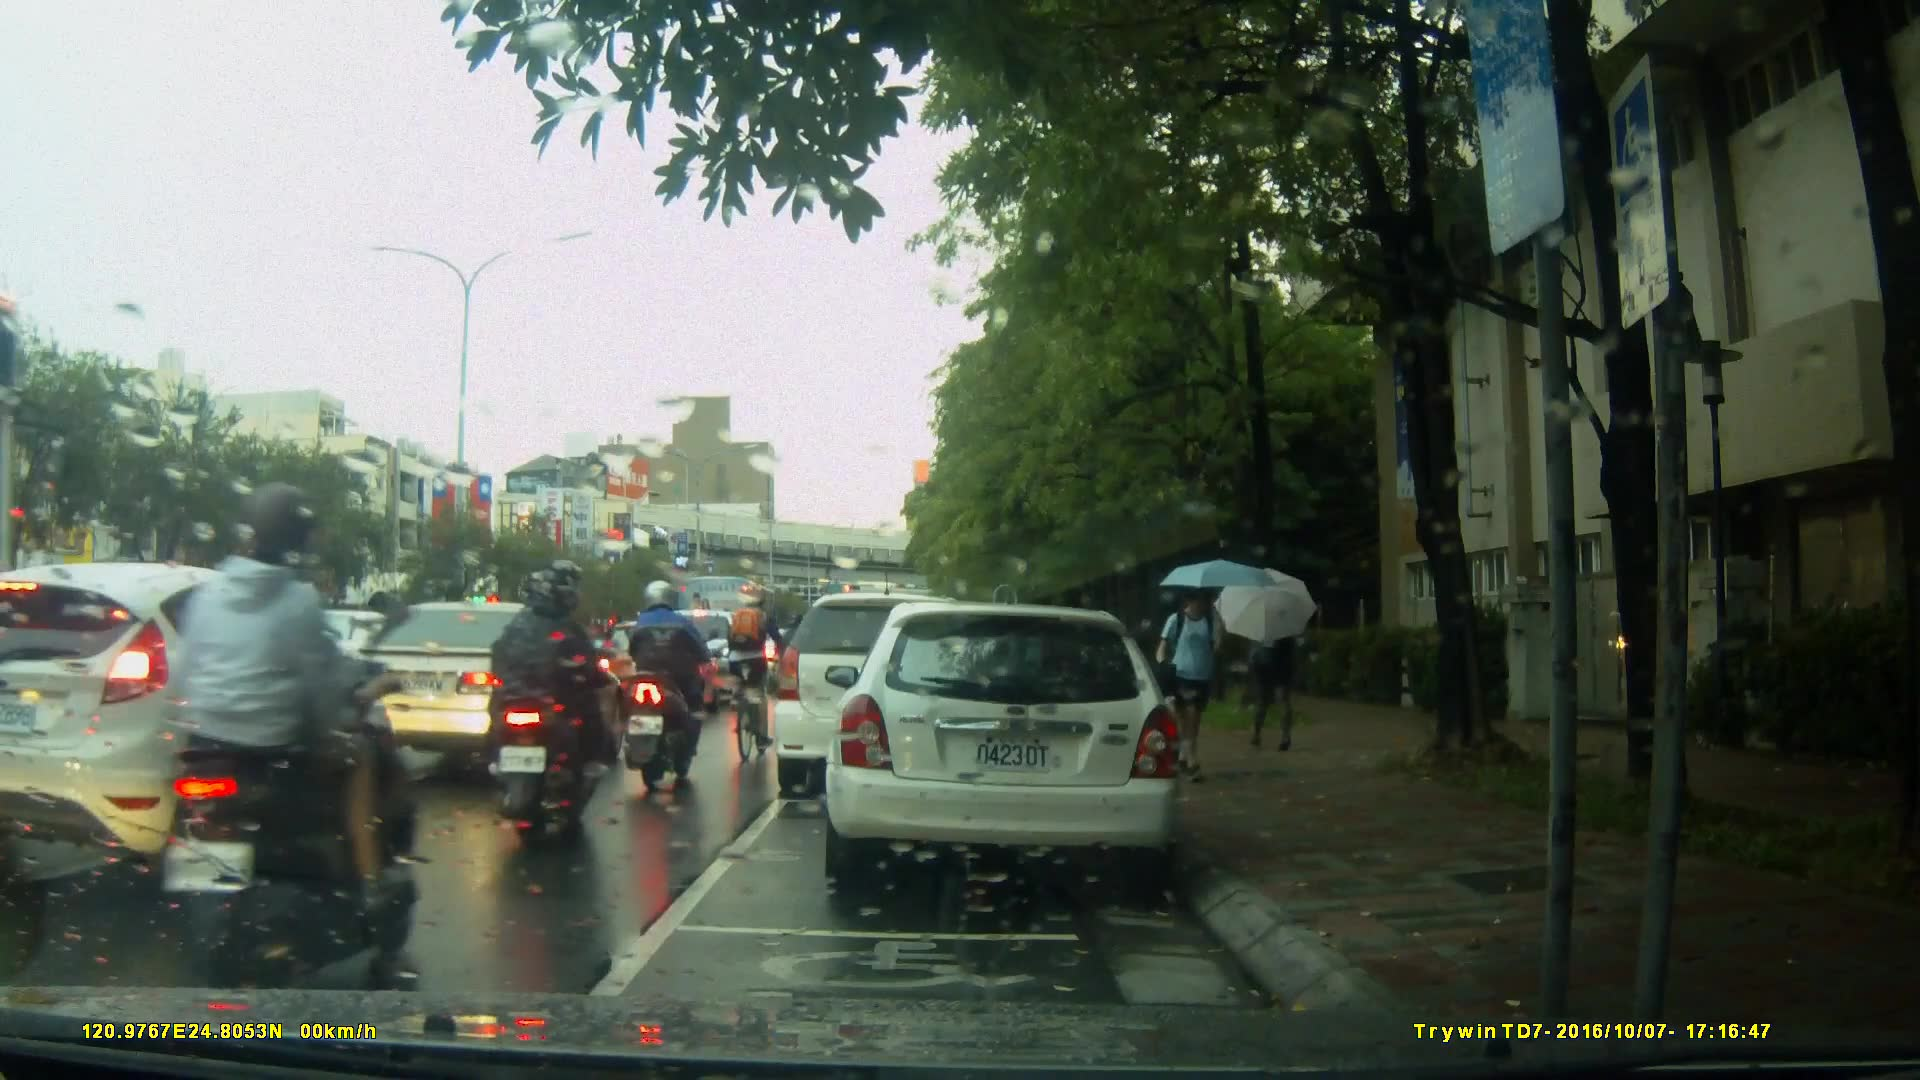pedestrian: (1163, 562, 1233, 797), (1258, 588, 1306, 752)
rider: (157, 478, 409, 999), (505, 564, 618, 856), (625, 580, 722, 798), (736, 584, 793, 771)
vehicle: (1, 556, 403, 900), (835, 594, 1194, 898), (327, 592, 584, 793), (776, 590, 1026, 784), (595, 620, 723, 721), (673, 573, 793, 672)
